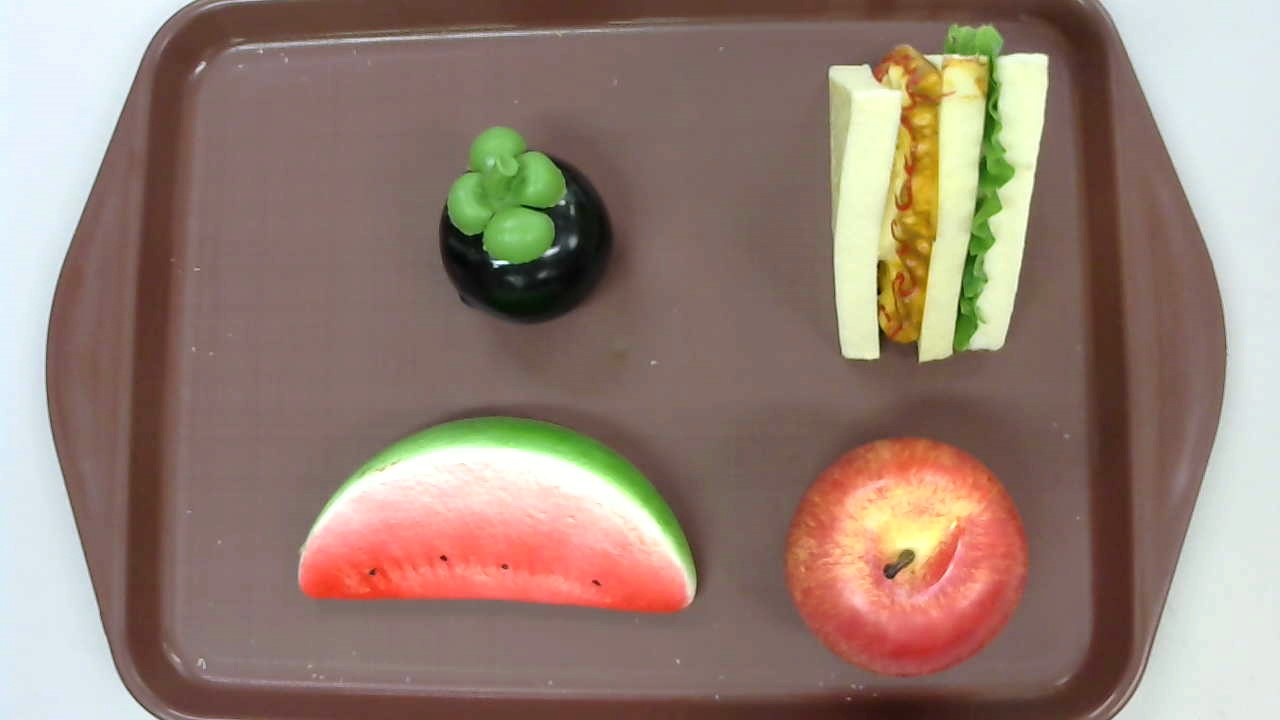mangosteen: (437, 126, 613, 326)
red apple: (785, 437, 1028, 678)
sandwich: (827, 22, 1050, 366)
watermelon: (298, 416, 697, 614)
